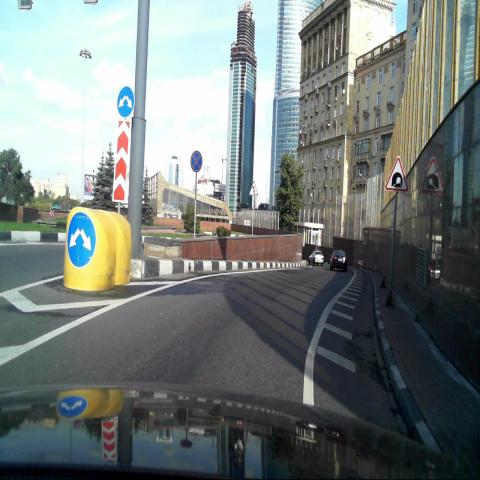1_11_1: (248, 179, 258, 197)
1_31: (383, 154, 409, 193)
3_27: (190, 148, 204, 174)
4_2_3: (66, 210, 96, 270), (117, 84, 135, 117)
